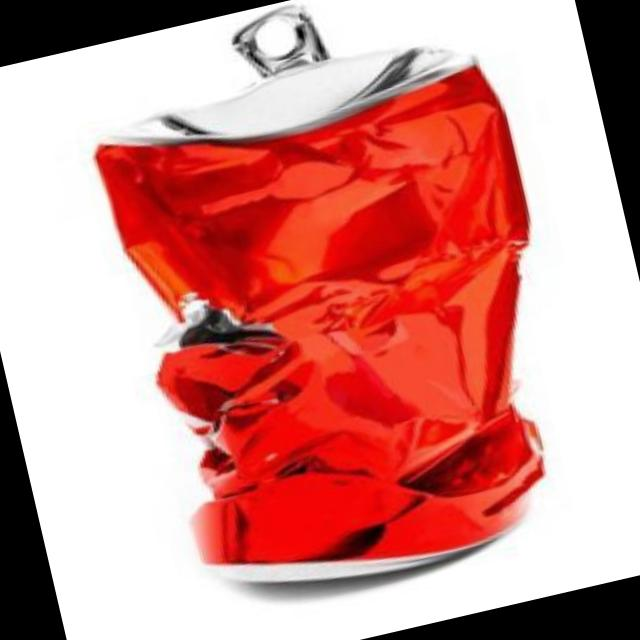metal: (97, 2, 543, 577)
